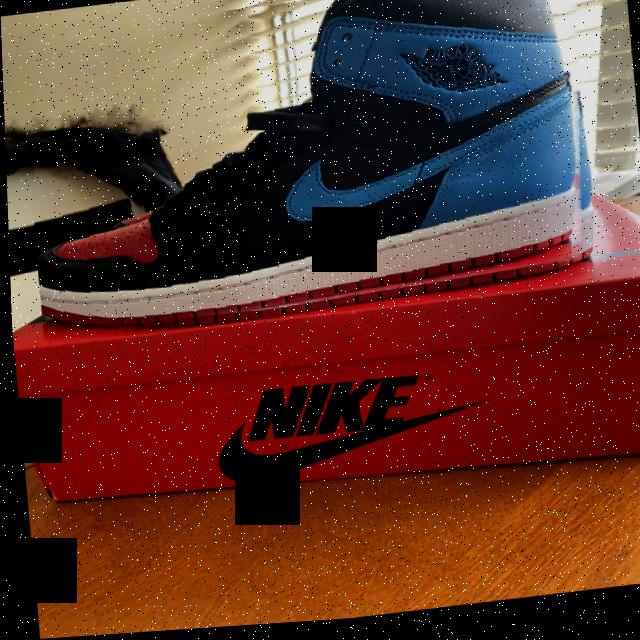shoe: (16, 0, 603, 345)
